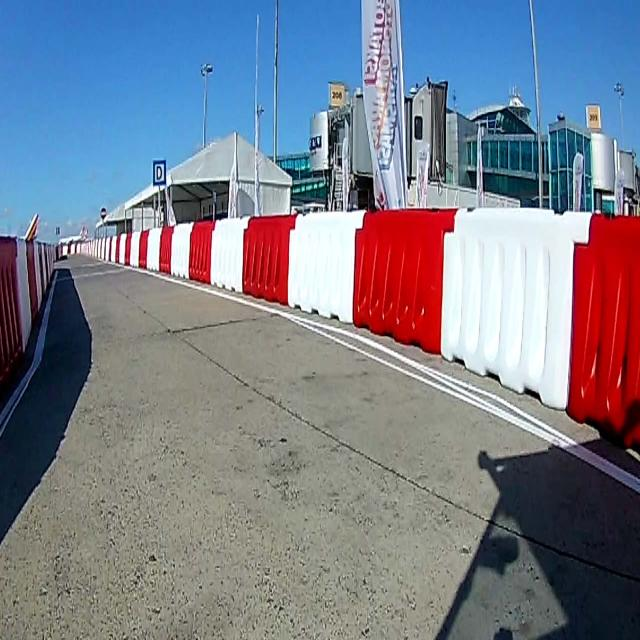durak: (152, 159, 166, 185)
girisyok: (99, 206, 107, 218)
